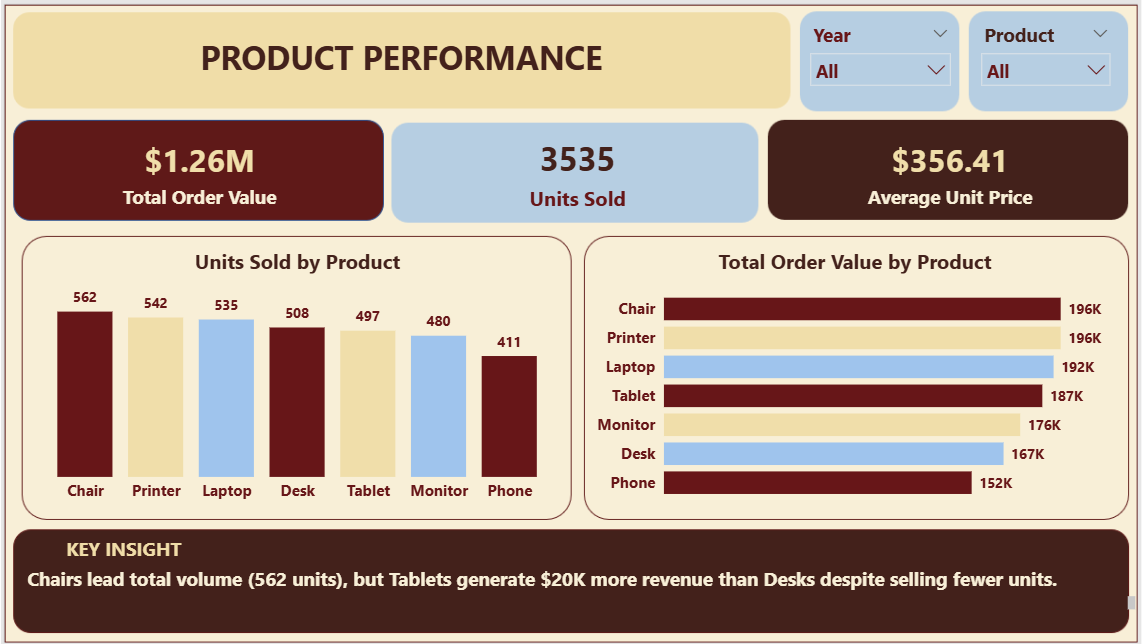

Layout of this report page (visuals, bound fields, positions):
{"tool":"powerbi","page":{"name":"PRODUCT PERFORMANCE","canvas":[1280,720],"ordinal":1},"visuals":[{"type":"textbox","title":"PRODUCT PERFORMANCE","box":[47.7,50.9,825.5,54.1],"z":0},{"type":"card","fields":{"Values":["Cleaned Data.Total Order Value"]},"box":[58.3,148.3,375,96.7],"z":2000},{"type":"card","fields":{"Values":["Cleaned Data.Units Sold"]},"box":[460,148.3,375,96.7],"z":3000},{"type":"card","fields":{"Values":["Cleaned Data.Average Unit Price"]},"box":[861.7,148.3,360,96.7],"z":4000},{"type":"columnChart","fields":{"Y":["Cleaned Data.Units Sold"],"Category":["Cleaned Data.Product"]},"box":[60,275,580,280],"z":5000},{"type":"clusteredBarChart","fields":{"Y":["Cleaned Data.Total Order Value"],"Category":["Cleaned Data.Product"]},"box":[661.7,275,560,280],"z":6000},{"type":"slicer","fields":{"Values":["Cleaned Data.Date.Variation.Date Hierarchy.Year"]},"box":[885,31.7,168.3,101.7],"z":7000},{"type":"slicer","fields":{"Values":["Cleaned Data.Product"]},"box":[1065,31.7,156.7,101.7],"z":8000},{"type":"textbox","title":"Order value isn''t driven by volume alone. Tablet generates about ₦20K more order value than Desk despite selling fewer units.","box":[60.4,614,1183.4,50.9],"z":9000},{"type":"textbox","title":"KEY INSIGHT","box":[100,581.7,300,31.7],"z":10000}]}

Visuals, with their boxes in screenshot pixels (x1, y1, x2, y2), scaled from the page's 1280x720 canvas onto the 1145x644 screenshot:
"PRODUCT PERFORMANCE" textbox: 43:46:781:94
card - Cleaned Data.Total Order Value: 52:133:388:219
card - Cleaned Data.Units Sold: 411:133:747:219
card - Cleaned Data.Average Unit Price: 771:133:1093:219
columnChart - Cleaned Data.Units Sold x Cleaned Data.Product: 54:246:572:496
clusteredBarChart - Cleaned Data.Total Order Value x Cleaned Data.Product: 592:246:1093:496
slicer - Cleaned Data.Date.Variation.Date Hierarchy.Year: 792:28:942:119
slicer - Cleaned Data.Product: 953:28:1093:119
"Order value isn''t driven by volume alone. Tablet generates about ₦20K more order value than Desk despite selling fewer units." textbox: 54:549:1113:595
"KEY INSIGHT" textbox: 89:520:358:549
